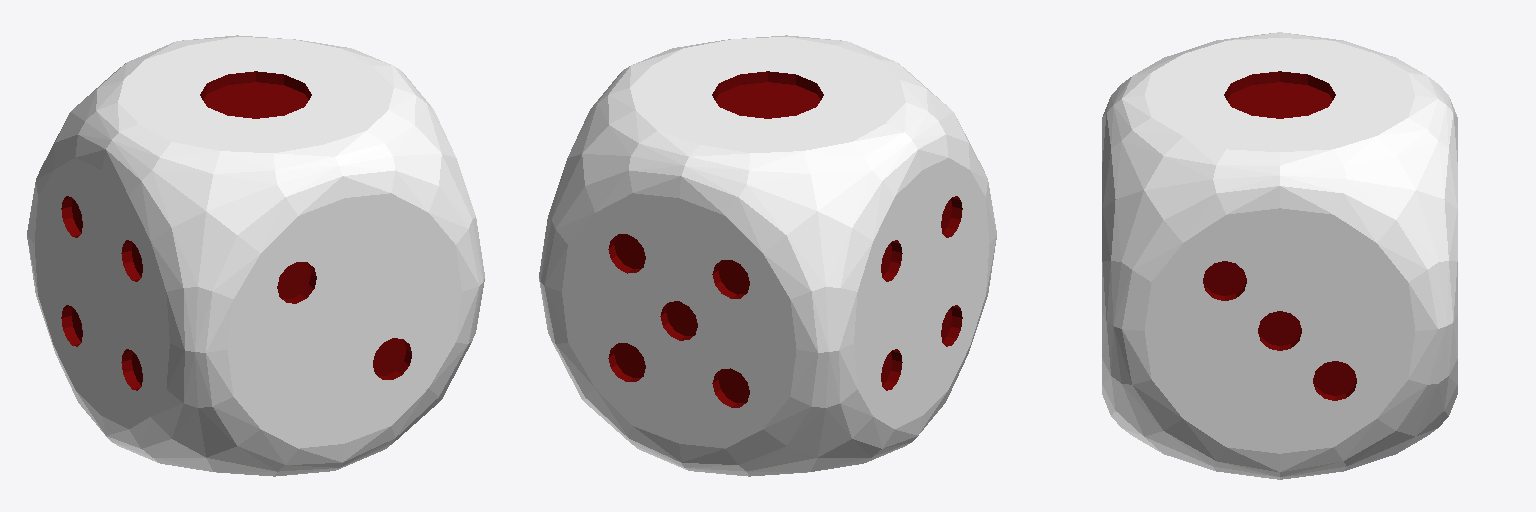
3 renders of one model, left to right at view 1: azimuth 30°, elevation 25°; view 2: azimuth 150°, elevation 25°; view 3: azimuth 270°, elevation 25°, orthographic.
Visible parts, largest first — view 1: pCylinder11; view 2: pCylinder11; view 3: pCylinder11.
Boxes of the visible parts, box(x1,y1,x2,y2) form: pCylinder11: box(27, 35, 484, 476); pCylinder11: box(539, 35, 996, 476); pCylinder11: box(1102, 32, 1457, 479).
Size of the model in its own units: 2.13 by 2.13 by 2.13.
1 materials, 1 textured.